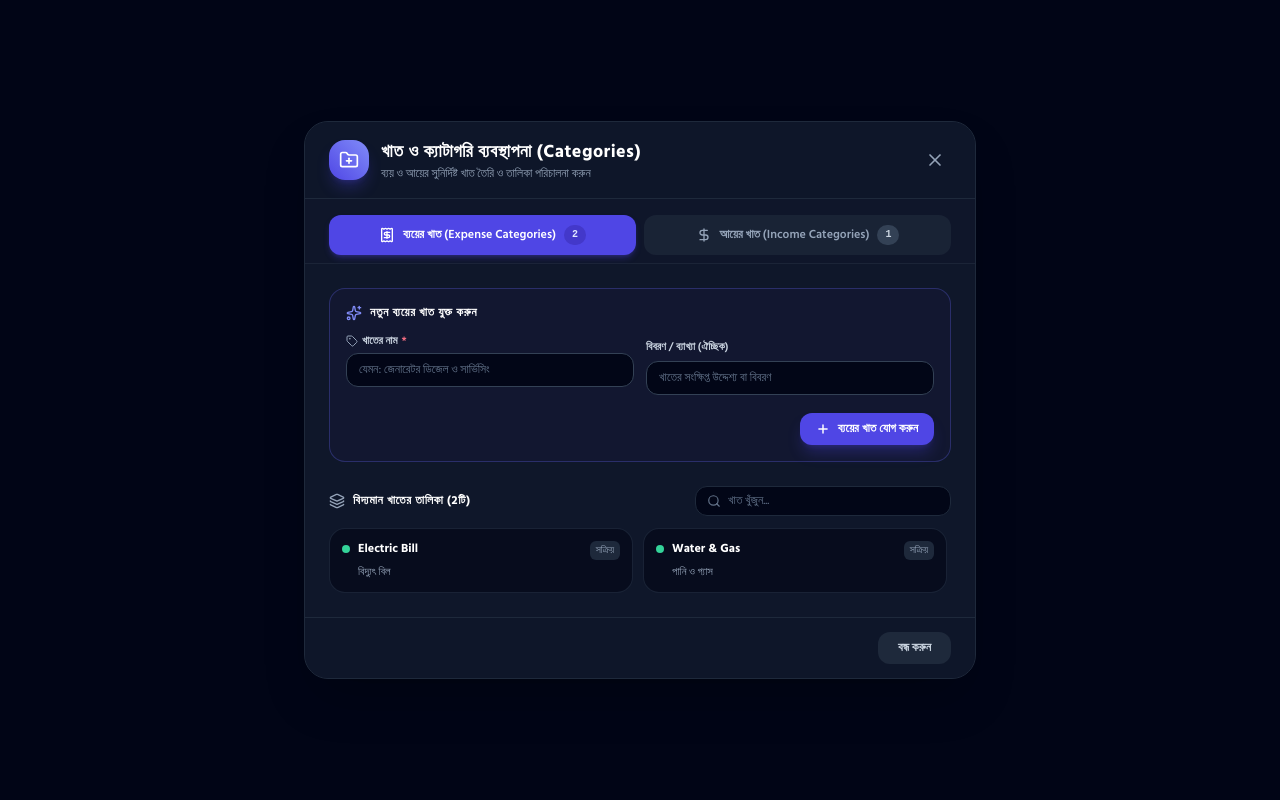
Test case: ManageCategoriesModal Component › filters category list in real-time using search input
This screenshot has width=1280, height=800.
Type "Water" into the field with placeholder "খাত খুঁজুন...". click: (823, 501)
box: x1=695 y1=486 x2=951 y2=516
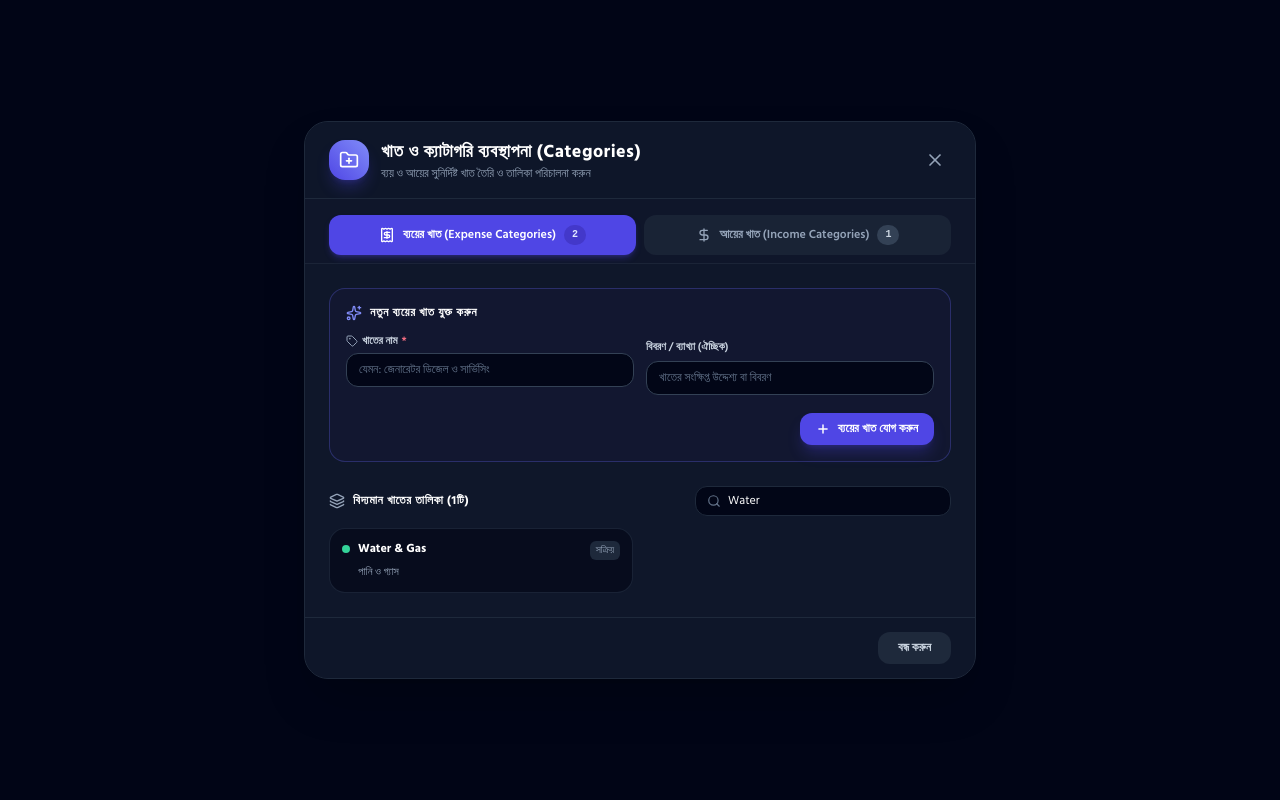
Expected: the text "Water & Gas" is shown, x1=358 y1=541 x2=426 y2=557
Result: the text "Electric Bill" is gone
